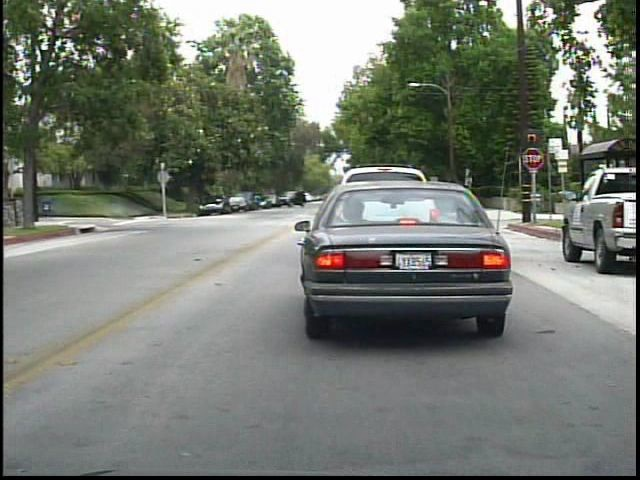person: (251, 189, 265, 213)
